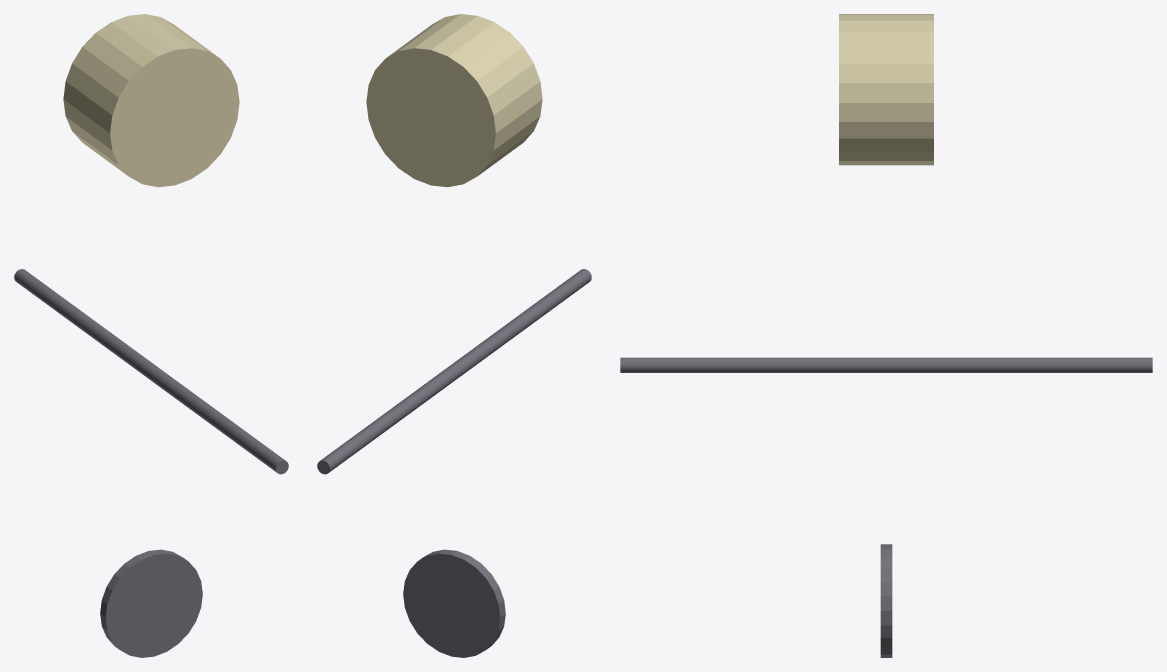
The model's file is lamp.glb.
3 views of the same model, side by side, from view 1: azimuth 30°, elevation 25°; view 2: azimuth 150°, elevation 25°; view 3: azimuth 270°, elevation 25° (orthographic).
Parts seen in each view (by area): view 1: geometry_2, geometry_0, geometry_1; view 2: geometry_2, geometry_0, geometry_1; view 3: geometry_2, geometry_1, geometry_0.
Part boxes in pixels (x1,y1,x2,y2): geometry_2: (63, 14, 239, 187); geometry_0: (100, 549, 202, 657); geometry_1: (14, 269, 288, 474); geometry_2: (366, 14, 542, 187); geometry_0: (403, 549, 505, 657); geometry_1: (317, 269, 591, 474); geometry_2: (839, 14, 933, 165); geometry_1: (620, 357, 1152, 372); geometry_0: (880, 544, 892, 657).
Size of the model in its own units: 0.4 by 1.84 by 1.4.
